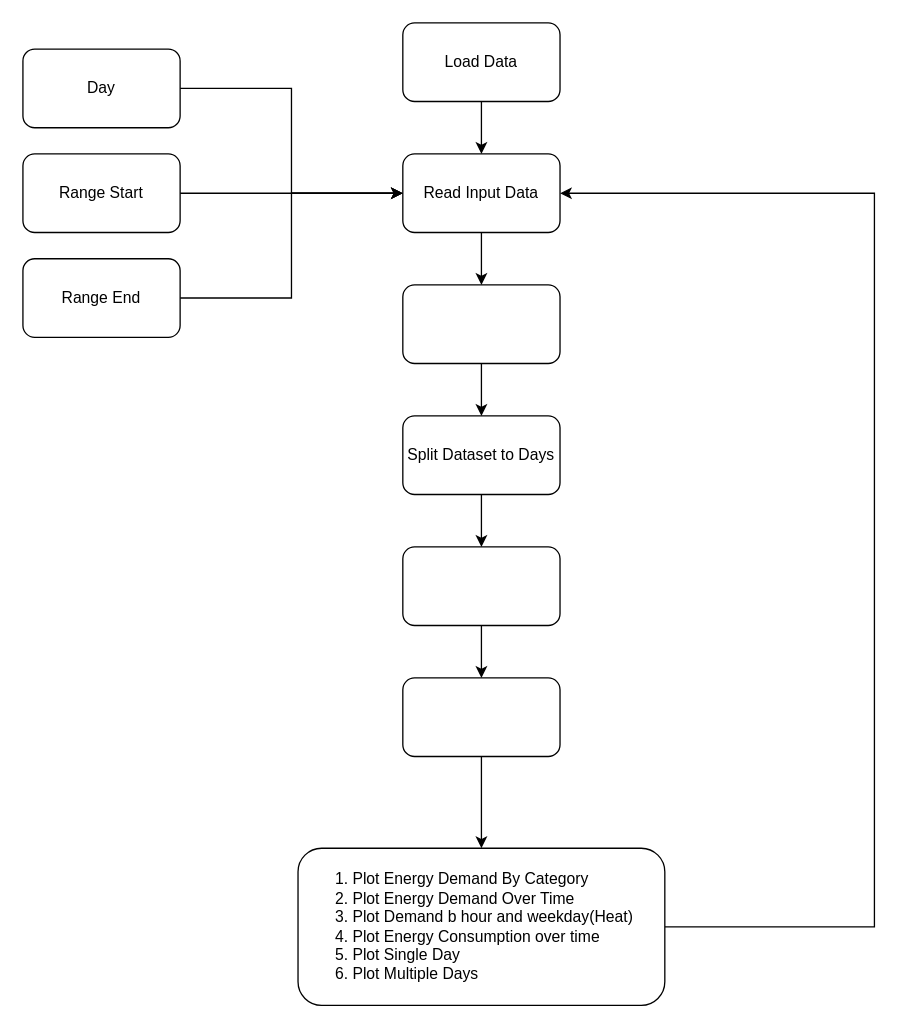
Image size: 908x1028. Some labels were removed from this diagram. The shapes that lost their labels are listed below. From the top down, each one's centre as x and y in pixels, then its label:
At [481,324]: "Calculate_Imbalance".
At [481,586]: "Calculate Max_Demand Max_Production".
At [481,717]: "Calculate Area".
